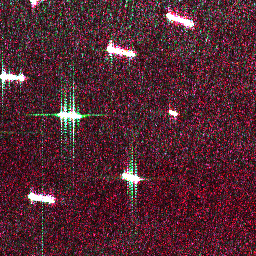ship: (163, 10, 196, 30), (104, 42, 137, 60), (26, 191, 56, 205), (119, 168, 142, 185), (1, 69, 26, 83), (56, 109, 82, 121), (166, 107, 180, 118)
